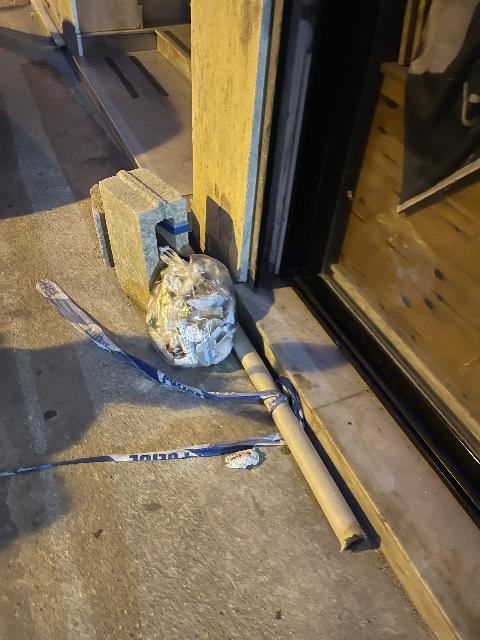Recyclable -Grey-: (146, 247, 236, 367)
